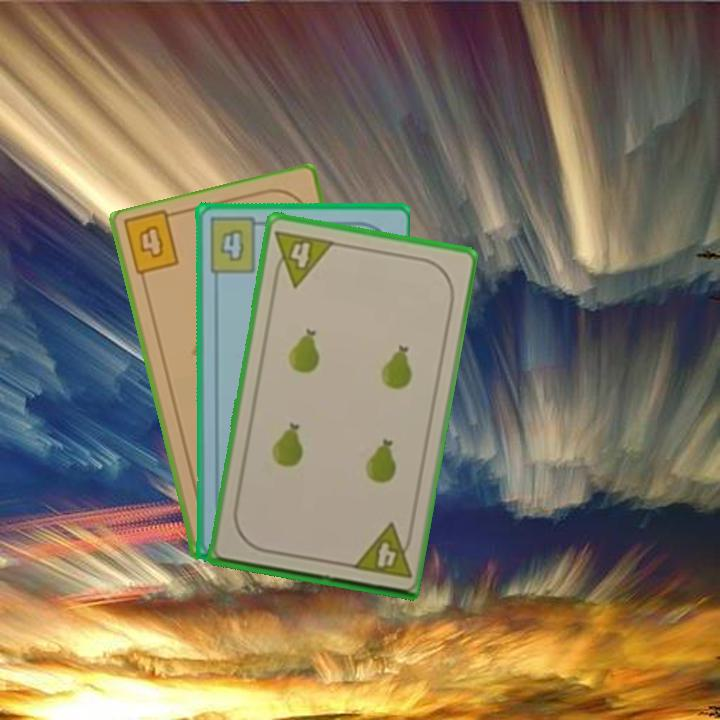4b: (206, 214, 268, 276), (134, 221, 166, 261)
4p: (269, 226, 337, 290), (347, 520, 416, 581)
